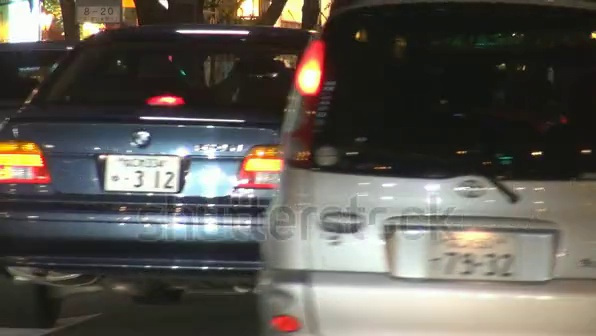licenseplate: (419, 227, 517, 286), (102, 156, 199, 202)
